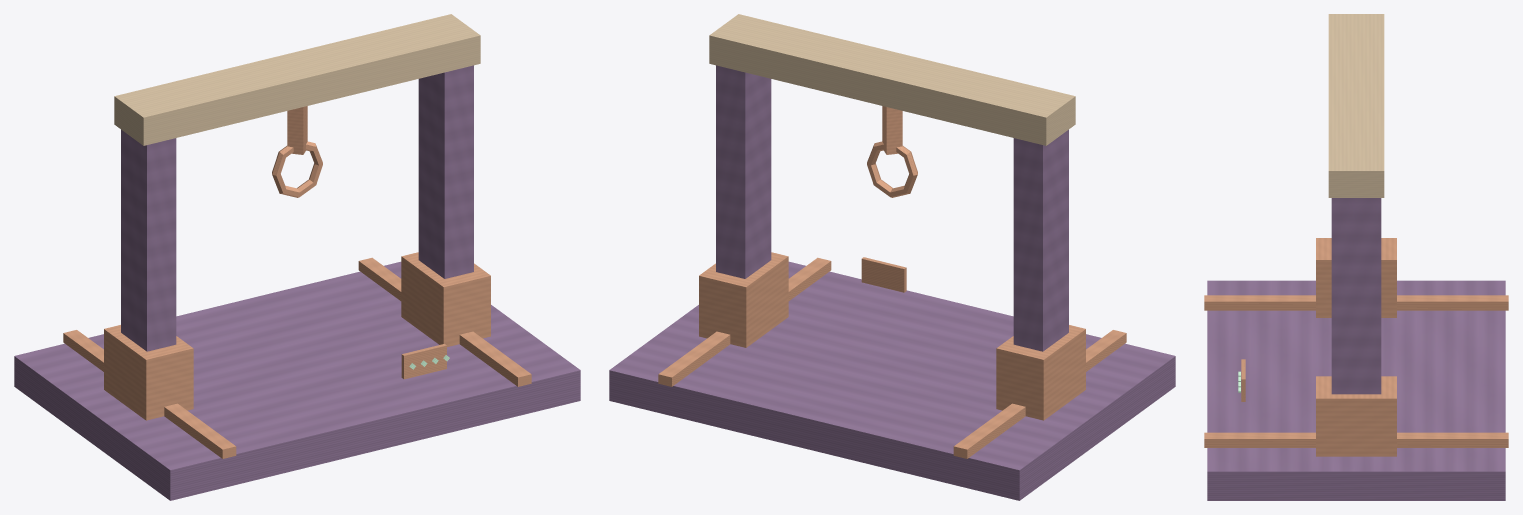
Rendered from atlas100-s087-a02.glb.
3 views of the same model, side by side, from view 1: azimuth 30°, elevation 25°; view 2: azimuth 150°, elevation 25°; view 3: azimuth 270°, elevation 25° (orthographic). The views are drawn at different scales.
Visible parts, largest first — view 1: atlas100-s087-a02:part-000, atlas100-s087-a02:part-007, atlas100-s087-a02:part-003, atlas100-s087-a02:part-005, atlas100-s087-a02:part-004, atlas100-s087-a02:part-006, atlas100-s087-a02:part-002, atlas100-s087-a02:part-001, atlas100-s087-a02:part-009, atlas100-s087-a02:part-010, atlas100-s087-a02:part-008; view 2: atlas100-s087-a02:part-000, atlas100-s087-a02:part-007, atlas100-s087-a02:part-003, atlas100-s087-a02:part-005, atlas100-s087-a02:part-004, atlas100-s087-a02:part-006, atlas100-s087-a02:part-002, atlas100-s087-a02:part-001, atlas100-s087-a02:part-010, atlas100-s087-a02:part-009, atlas100-s087-a02:part-008; view 3: atlas100-s087-a02:part-000, atlas100-s087-a02:part-007, atlas100-s087-a02:part-005, atlas100-s087-a02:part-006, atlas100-s087-a02:part-001, atlas100-s087-a02:part-002, atlas100-s087-a02:part-004.
Part boxes in pixels (x1,y1,x2,y2): atlas100-s087-a02:part-000: [14, 261, 580, 500]; atlas100-s087-a02:part-007: [114, 14, 480, 145]; atlas100-s087-a02:part-003: [121, 129, 176, 351]; atlas100-s087-a02:part-005: [418, 65, 473, 278]; atlas100-s087-a02:part-004: [104, 325, 193, 420]; atlas100-s087-a02:part-006: [401, 252, 490, 346]; atlas100-s087-a02:part-002: [358, 257, 531, 386]; atlas100-s087-a02:part-001: [63, 330, 236, 458]; atlas100-s087-a02:part-009: [272, 141, 322, 197]; atlas100-s087-a02:part-010: [401, 344, 446, 379]; atlas100-s087-a02:part-008: [287, 106, 307, 154]; atlas100-s087-a02:part-000: [609, 261, 1175, 500]; atlas100-s087-a02:part-007: [709, 14, 1075, 145]; atlas100-s087-a02:part-003: [1013, 129, 1068, 351]; atlas100-s087-a02:part-005: [716, 65, 771, 278]; atlas100-s087-a02:part-004: [996, 325, 1085, 420]; atlas100-s087-a02:part-006: [699, 252, 788, 347]; atlas100-s087-a02:part-002: [658, 257, 831, 386]; atlas100-s087-a02:part-001: [953, 330, 1126, 458]; atlas100-s087-a02:part-010: [861, 257, 906, 292]; atlas100-s087-a02:part-009: [867, 141, 917, 197]; atlas100-s087-a02:part-008: [882, 106, 902, 154]; atlas100-s087-a02:part-000: [1207, 280, 1505, 500]; atlas100-s087-a02:part-007: [1328, 14, 1384, 197]; atlas100-s087-a02:part-005: [1331, 198, 1381, 394]; atlas100-s087-a02:part-006: [1316, 376, 1396, 456]; atlas100-s087-a02:part-001: [1204, 295, 1508, 310]; atlas100-s087-a02:part-002: [1204, 432, 1508, 447]; atlas100-s087-a02:part-004: [1316, 238, 1396, 317].
Bounding box in the file's own units: 3.64 × 2.78 × 2.45.
Materials: 4 (4 with a texture image).
